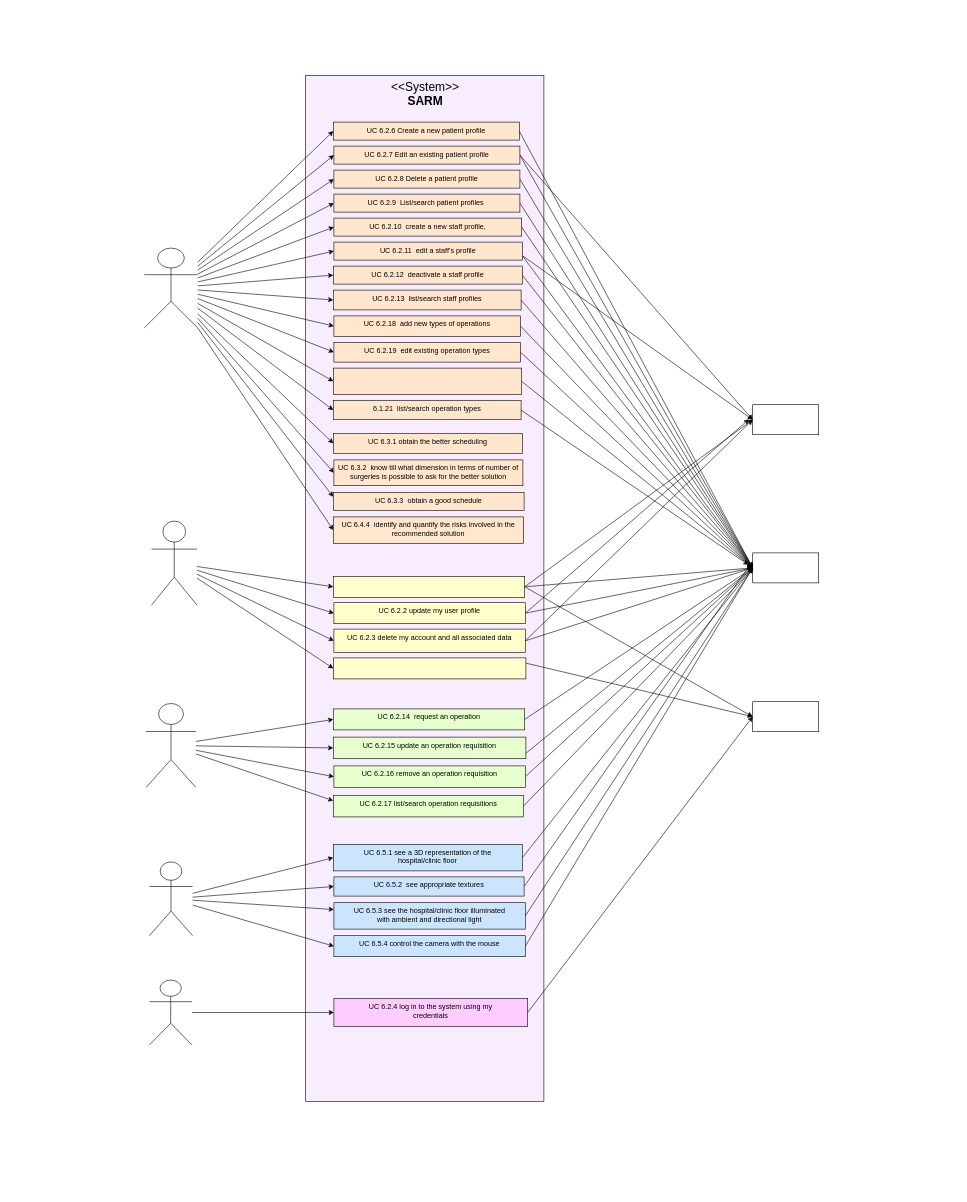
The diagram is 967 pixels wide and 1202 high, and some of its shapes have lost their labels. Each missing label, with the centre of its shape:
"Admin" goes at (x=171, y=288).
"Backoffice user" goes at (x=170, y=1012).
"Doctor" goes at (x=171, y=745).
"IAM" goes at (x=785, y=716).
"Patient" goes at (x=174, y=562).
"SMTP" goes at (x=785, y=419).
"Staff" goes at (x=171, y=898).
"UC 6.2.1 register for the healthcare application" goes at (x=429, y=586).
"UC 6.2.20 remove obsolete or no longer performed operation types" goes at (x=427, y=381).
"UC 6.2.5 log in to the healthcare system" goes at (x=429, y=668).
"UI" goes at (x=785, y=567).
